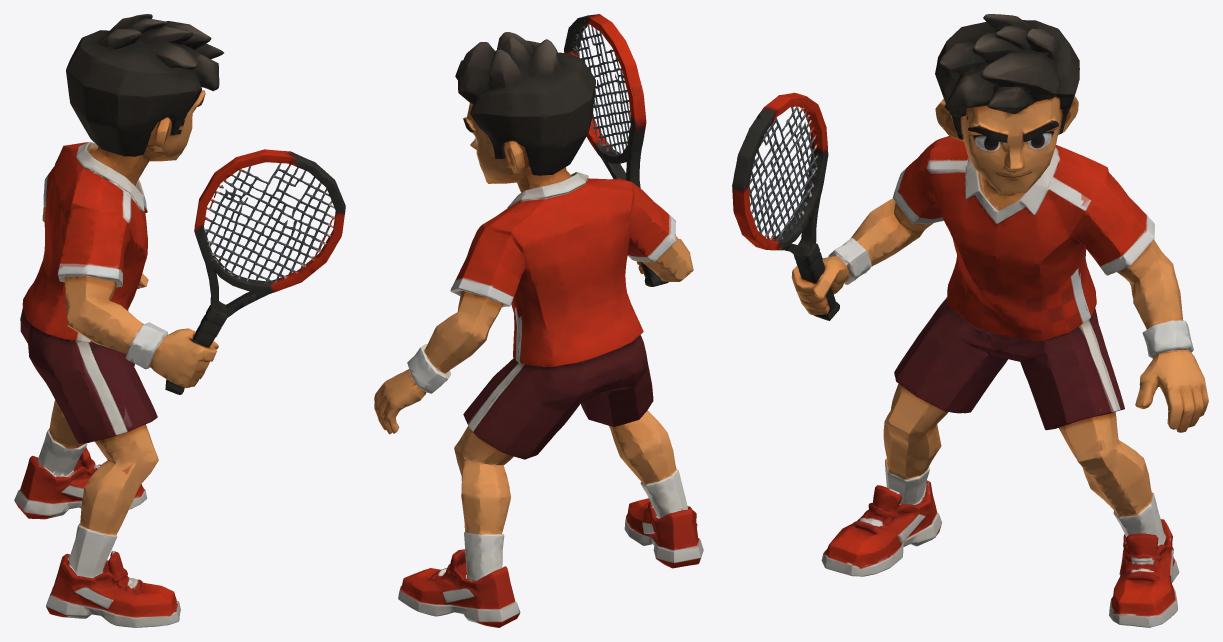
File: red.fbx
3 views of the same model, side by side, from view 1: azimuth 30°, elevation 25°; view 2: azimuth 150°, elevation 25°; view 3: azimuth 270°, elevation 25° (orthographic). The views are drawn at different scales.
Visible parts, largest first — view 1: tripo_node_51c007fe; view 2: tripo_node_51c007fe; view 3: tripo_node_51c007fe.
Boxes of the visible parts, x1,y1,x2,y2 form: tripo_node_51c007fe: (14, 14, 345, 627); tripo_node_51c007fe: (374, 14, 703, 627); tripo_node_51c007fe: (732, 14, 1208, 627).
Bounding box in the file's own units: 0.4323 × 1 × 0.7501.
1 material, 1 textured.
